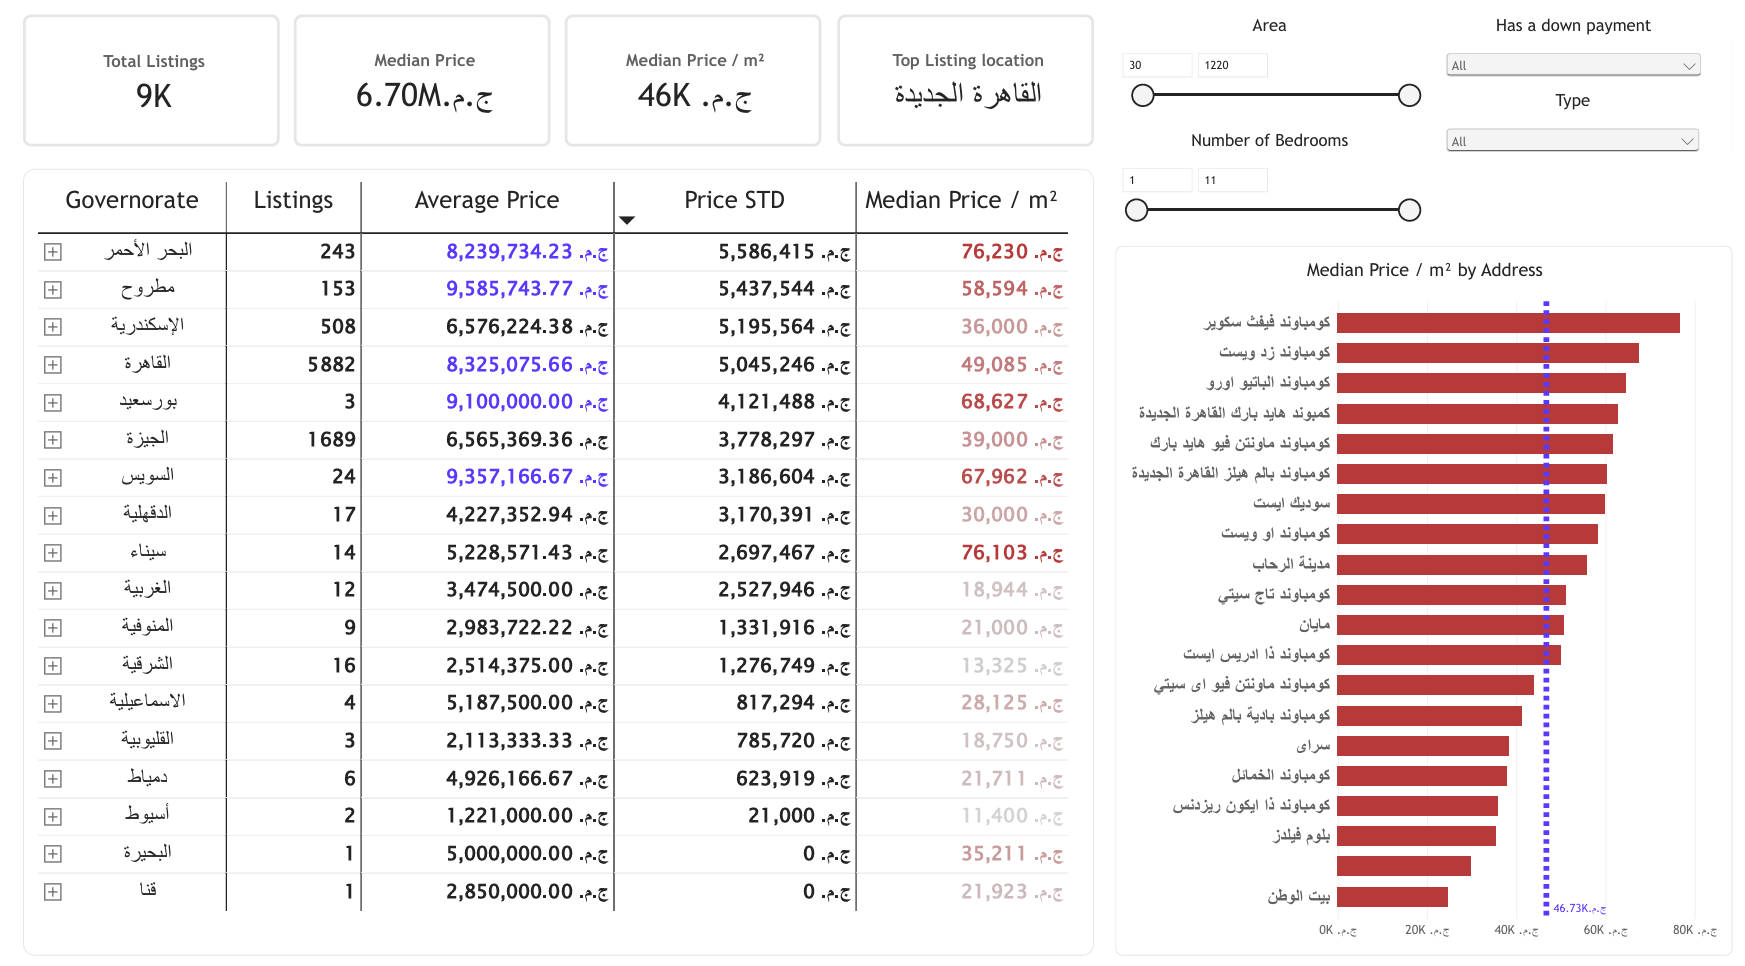

Layout of this report page (visuals, bound fields, positions):
{"tool":"powerbi","page":{"name":"Geographic analysis","canvas":[1920,1080],"ordinal":1},"visuals":[{"type":"cardVisual","fields":{"Data":["_Calculations.# Total Ads"]},"box":[14,8,286,147],"z":0},{"type":"cardVisual","fields":{"Data":["_Calculations.Median Price"]},"box":[316,8,286,147],"z":1000},{"type":"cardVisual","fields":{"Data":["_Calculations.Top Listing Governorate"]},"box":[922,8,286,147],"z":2000},{"type":"cardVisual","fields":{"Data":["_Calculations.Median Price per meter"]},"box":[618,8,286,147],"z":3000},{"type":"pivotTable","fields":{"Rows":["Dim_address.governorate","Dim_address.city_or_locality"],"Values":["_Calculations.# Total Ads","_Calculations.Average Price","_Calculations.price std","_Calculations.Median Price per meter"]},"box":[14,180,1194,878],"z":4000},{"type":"barChart","title":"Median Price / m² by Address","fields":{"Category":["Dim_address.street_address"],"Y":["_Calculations.Median Price per m²"]},"box":[1232,266,688,792],"z":5000},{"type":"slicer","title":"Type","fields":{"Values":["Fact_ads.property_type"]},"box":[1596,92,292,88],"z":6000},{"type":"slicer","title":"Has a down payment","fields":{"Values":["Fact_ads.has down payment"]},"box":[1596,8,294,88],"z":7000},{"type":"slicer","title":"Area","fields":{"Values":["Fact_ads.area"]},"box":[1232,8,344,108],"z":7001},{"type":"slicer","title":"Number of Bedrooms","fields":{"Values":["Fact_ads.bedrooms"]},"box":[1232,136,344,108],"z":7002}]}

Visuals, with their boxes in screenshot pixels (x1, y1, x2, y2), scaled from the page's 1920x1080 canvas onto the 1745x966 screenshot:
cardVisual - _Calculations.# Total Ads: 13:7:273:139
cardVisual - _Calculations.Median Price: 287:7:547:139
cardVisual - _Calculations.Top Listing Governorate: 838:7:1098:139
cardVisual - _Calculations.Median Price per meter: 562:7:822:139
pivotTable - Dim_address.governorate x Dim_address.city_or_locality: 13:161:1098:946
"Median Price / m² by Address" barChart: 1120:238:1744:946
"Type" slicer: 1451:82:1716:161
"Has a down payment" slicer: 1451:7:1718:86
"Area" slicer: 1120:7:1432:104
"Number of Bedrooms" slicer: 1120:122:1432:218
